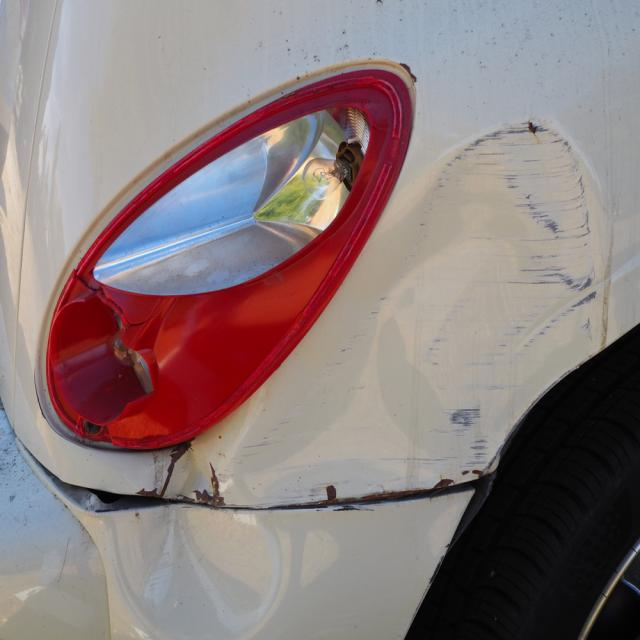Cabossage: (96, 488, 290, 634)
Dechirure: (4, 446, 186, 521), (285, 458, 498, 517)
Phare abime: (35, 235, 330, 467)
Rayure: (426, 117, 607, 340), (334, 292, 493, 477)
